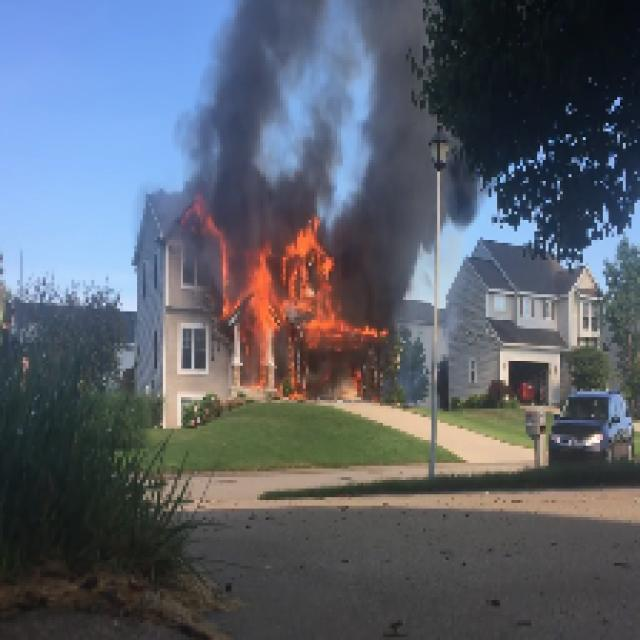Fire: (234, 228, 346, 338)
Smoke: (206, 2, 363, 208), (363, 111, 428, 306)
